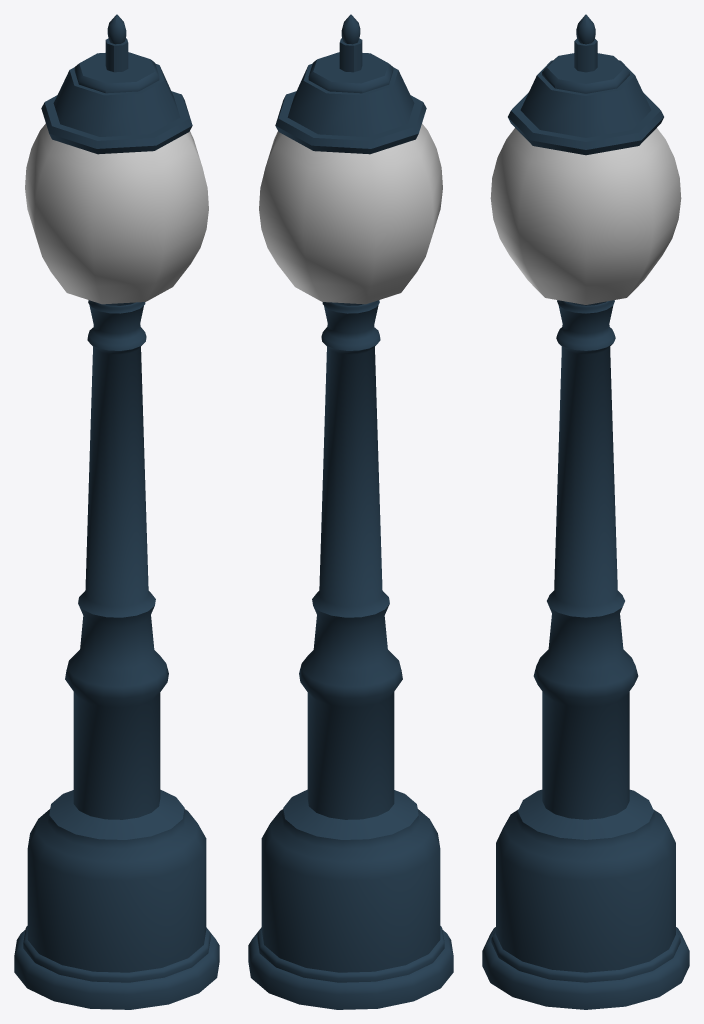
Rendered from street lamp.fbx.
3 renders of one model, left to right at view 1: azimuth 30°, elevation 25°; view 2: azimuth 150°, elevation 25°; view 3: azimuth 270°, elevation 25°, orthographic.
Visible parts, largest first — view 1: Cube.012; view 2: Cube.012; view 3: Cube.012.
Part boxes in pixels (left/top/right/bottom): Cube.012: left=14, top=14, right=219, bottom=1009; Cube.012: left=248, top=14, right=453, bottom=1009; Cube.012: left=482, top=14, right=689, bottom=1009.
Bounding box in the file's own units: 93.9 × 93.9 × 476.
